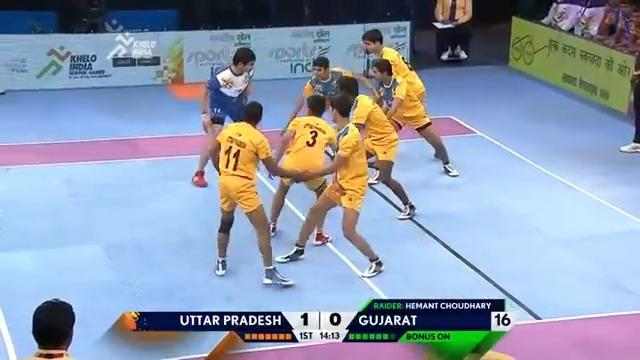Player: (274, 91, 384, 278), (211, 100, 299, 287), (360, 28, 459, 178), (332, 75, 416, 219), (267, 93, 336, 245), (281, 55, 377, 134), (22, 297, 79, 359)
Raider: (191, 45, 256, 186)
referee: (432, 0, 473, 61)
